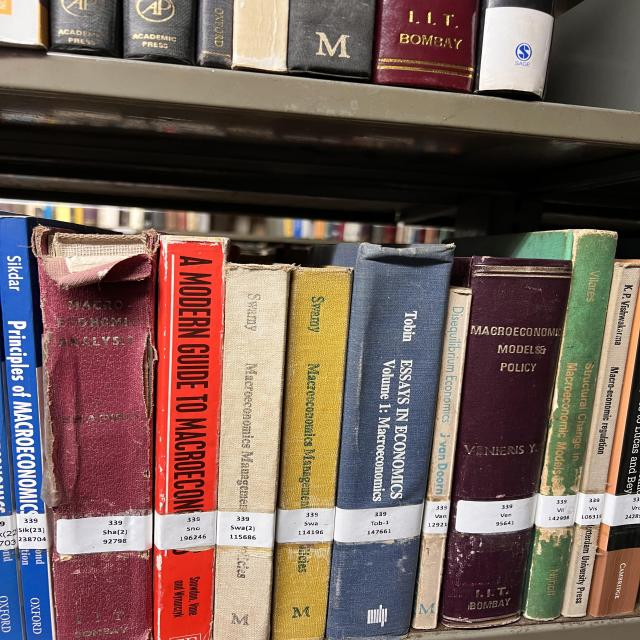Book: (310, 244, 453, 640), (32, 225, 158, 640), (440, 256, 570, 628), (457, 230, 617, 511), (0, 216, 95, 640), (213, 264, 293, 640), (153, 236, 227, 640), (272, 268, 352, 640), (562, 260, 640, 618), (412, 288, 472, 630), (523, 525, 573, 620)
Label: (57, 515, 152, 554), (333, 504, 423, 542), (455, 494, 537, 534), (153, 511, 217, 550), (217, 511, 275, 548), (275, 509, 335, 542), (535, 495, 577, 528), (17, 514, 48, 549), (575, 492, 605, 525), (422, 501, 450, 534)
